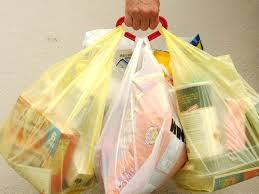Plastic bag: (6, 6, 259, 189)
